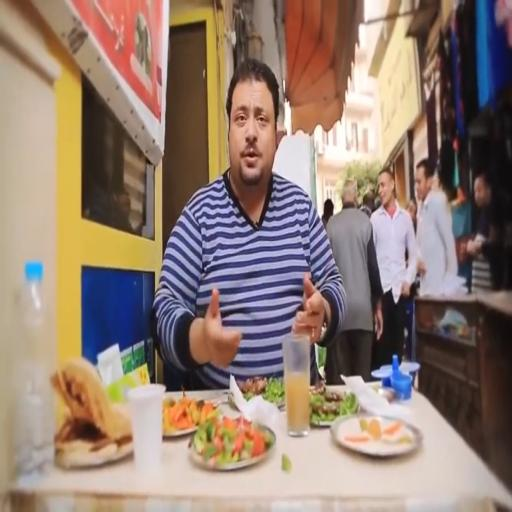nao-violencia: (321, 150, 462, 382)
